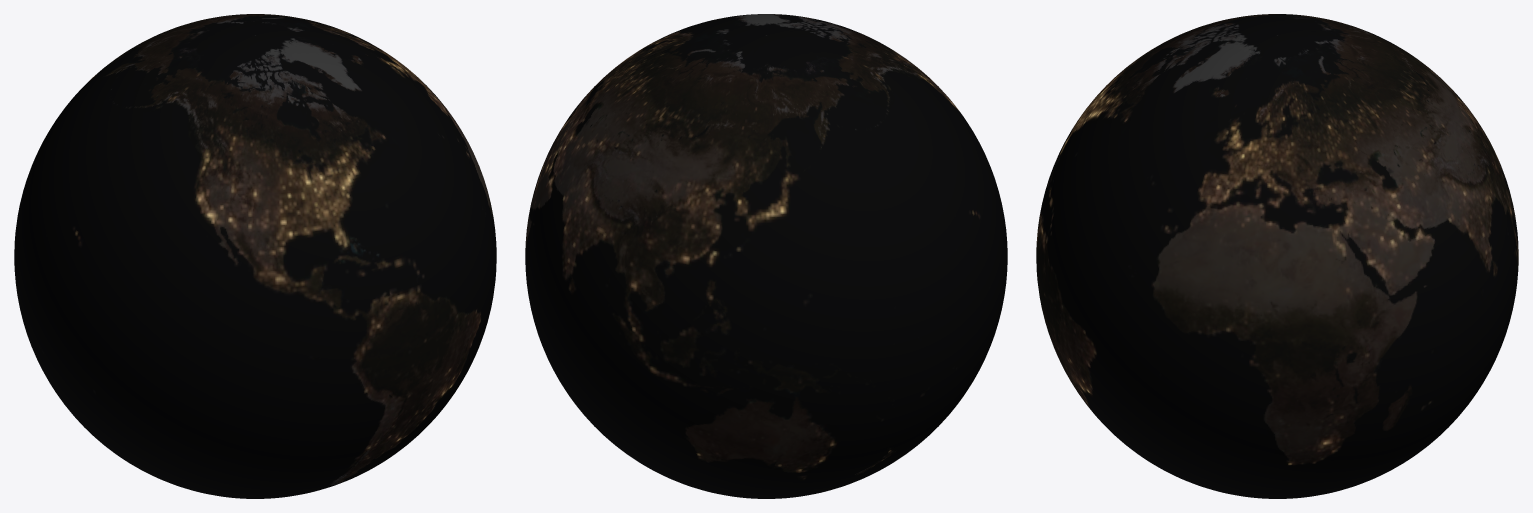
File: earth(2).compressed.glb
3 views of the same model, side by side, from view 1: azimuth 30°, elevation 25°; view 2: azimuth 150°, elevation 25°; view 3: azimuth 270°, elevation 25° (orthographic).
Visible parts, largest first — view 1: Sphere; view 2: Sphere; view 3: Sphere.
Part boxes in pixels (x1,y1,x2,y2): Sphere: (14, 14, 496, 498); Sphere: (525, 14, 1007, 498); Sphere: (1036, 14, 1518, 498).
Bounding box in the file's own units: 1.97 × 2 × 1.97.
1 material, 1 textured.
